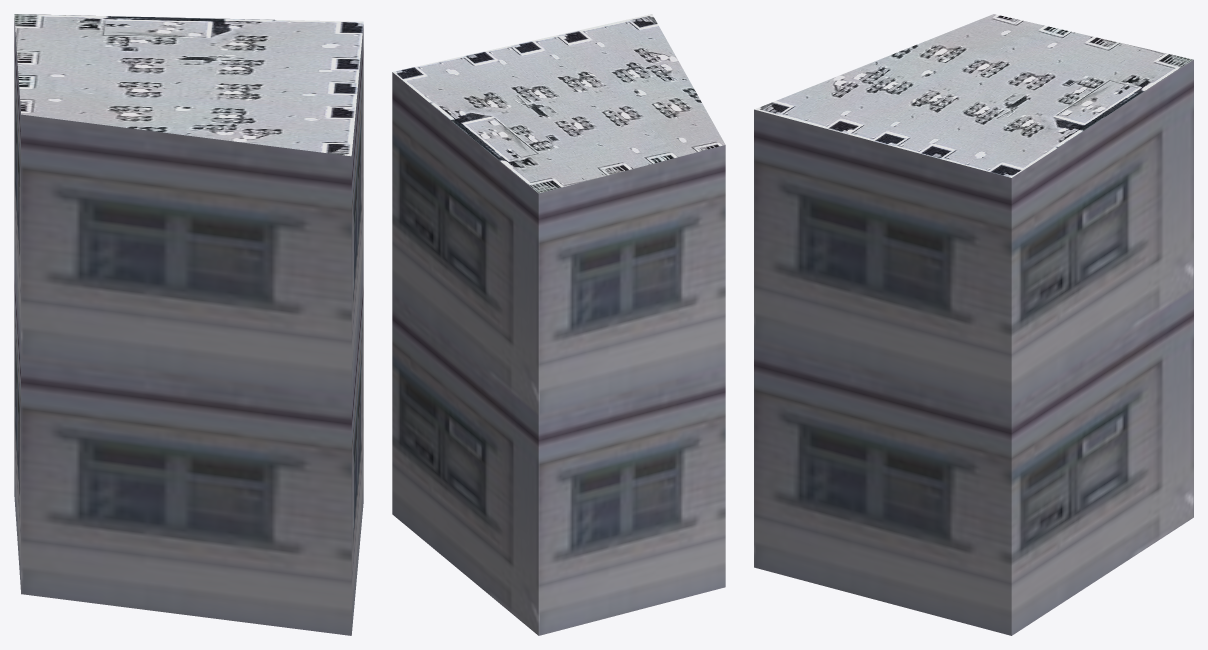
File: ResTex__3877.fbx
3 renders of one model, left to right at view 1: azimuth 30°, elevation 25°; view 2: azimuth 150°, elevation 25°; view 3: azimuth 270°, elevation 25°, orthographic. The views are drawn at different scales.
Visible parts, largest first — view 1: CityEngineMaterial_1_m, CityEngineMaterial_4_m; view 2: CityEngineMaterial_1_m, CityEngineMaterial_4_m; view 3: CityEngineMaterial_1_m, CityEngineMaterial_4_m.
Boxes of the visible parts, bbox=[...] form: CityEngineMaterial_1_m: bbox=[14, 18, 363, 635]; CityEngineMaterial_4_m: bbox=[14, 14, 363, 156]; CityEngineMaterial_1_m: bbox=[392, 72, 725, 635]; CityEngineMaterial_4_m: bbox=[393, 14, 725, 193]; CityEngineMaterial_1_m: bbox=[754, 59, 1193, 635]; CityEngineMaterial_4_m: bbox=[754, 14, 1193, 177].
Size of the model in its own units: 4.61 by 6 by 5.22.
2 materials, 2 textured.
